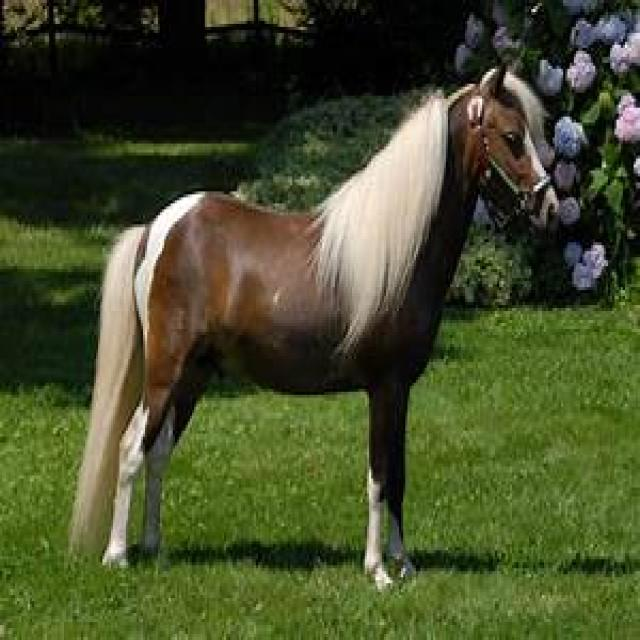horse: (70, 66, 561, 592)
